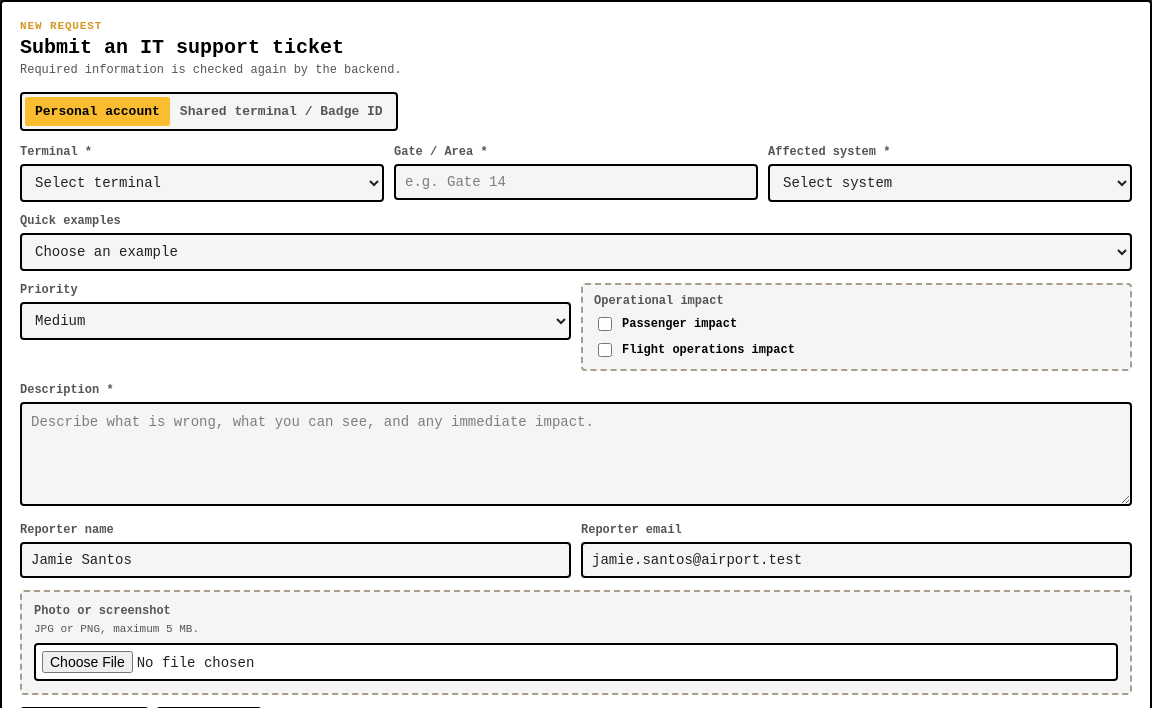
Test case: TicketForm attachment validation › clears ticket issue fields without creating a ticket
This screenshot has width=1152, height=708.
Select "Terminal 1" in the dropdown named "terminal" at (202, 183), box top-left (20, 164), bottom-right (384, 202)
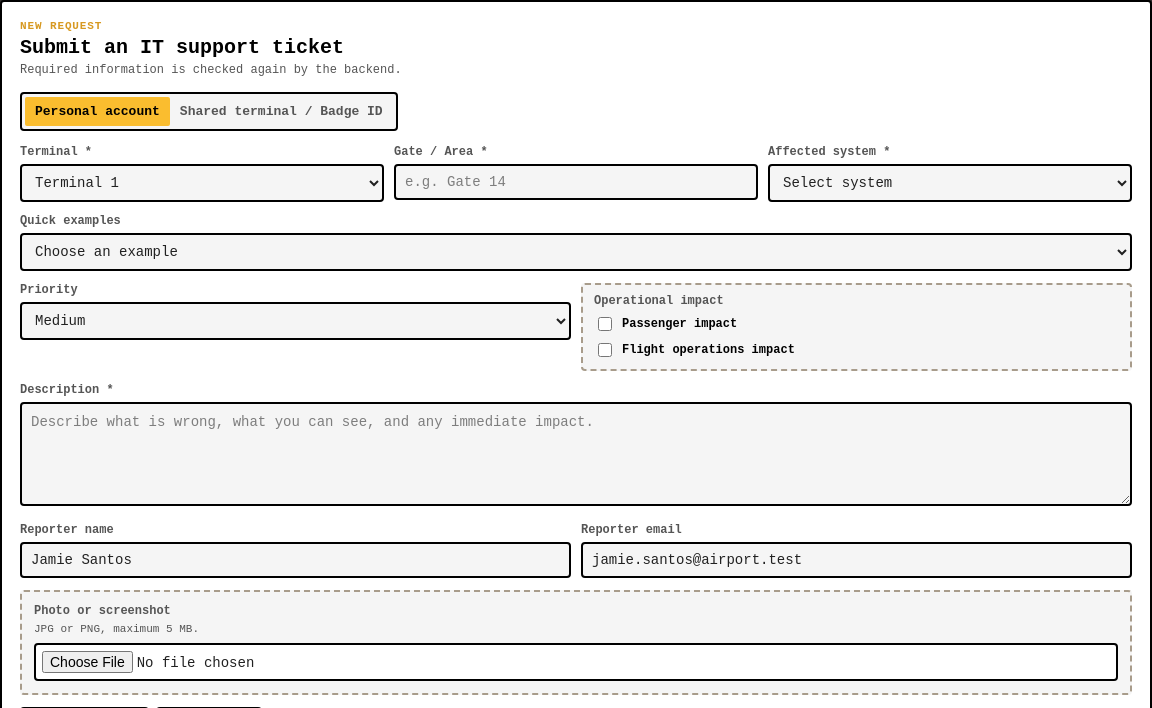
Type "Gate 14" into the field named "area" at (576, 182), box top-left (394, 164), bottom-right (758, 200)
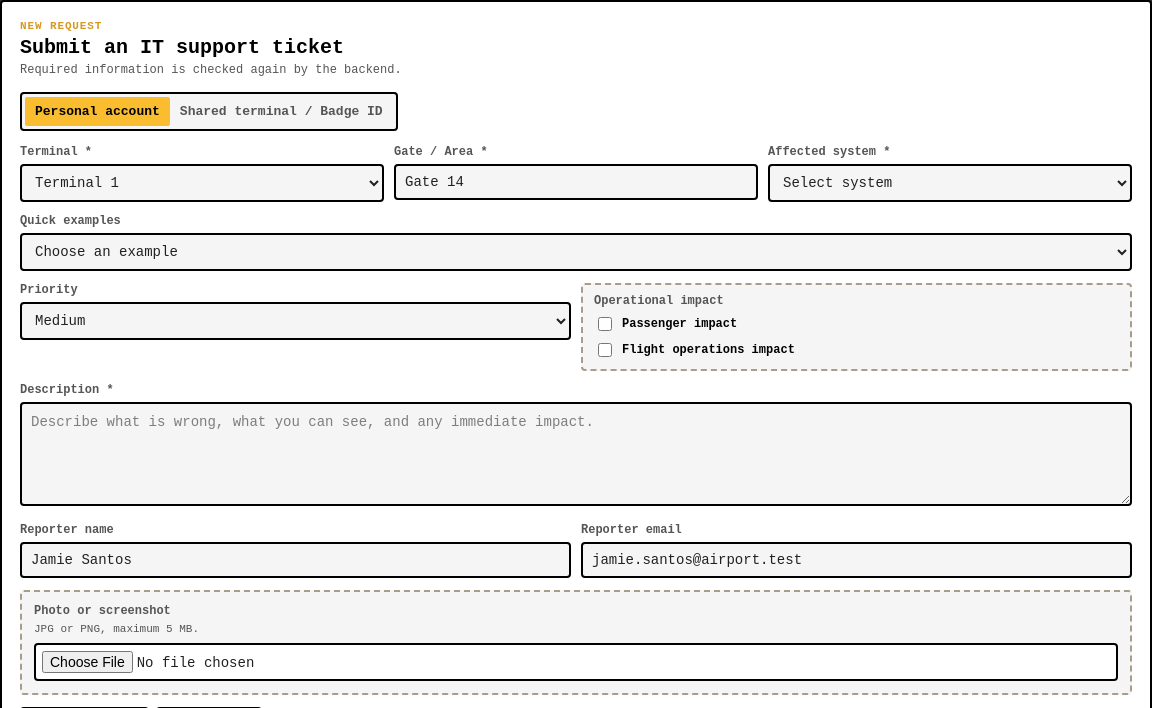
Select "Kiosk" in the dropdown named "systemType" at (950, 183), box top-left (768, 164), bottom-right (1132, 202)
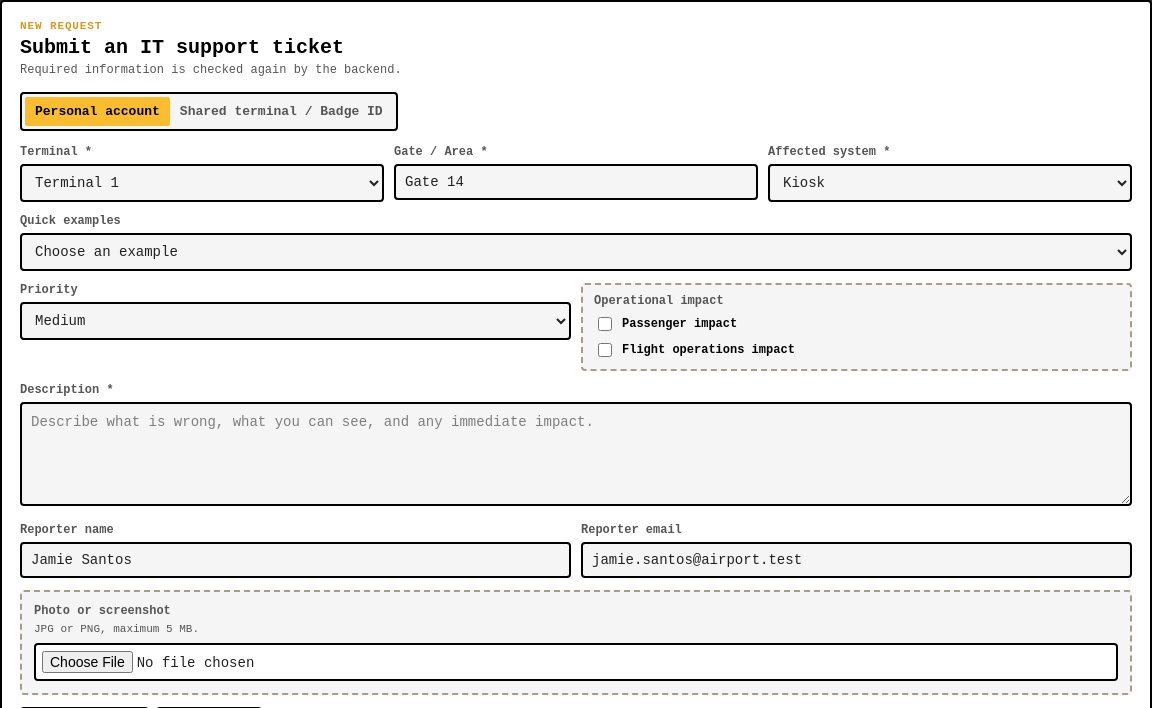
Replace the text in the text box named "description" with "Test kiosk problem" at (576, 454), box top-left (20, 402), bottom-right (1132, 506)
(page scrolled)
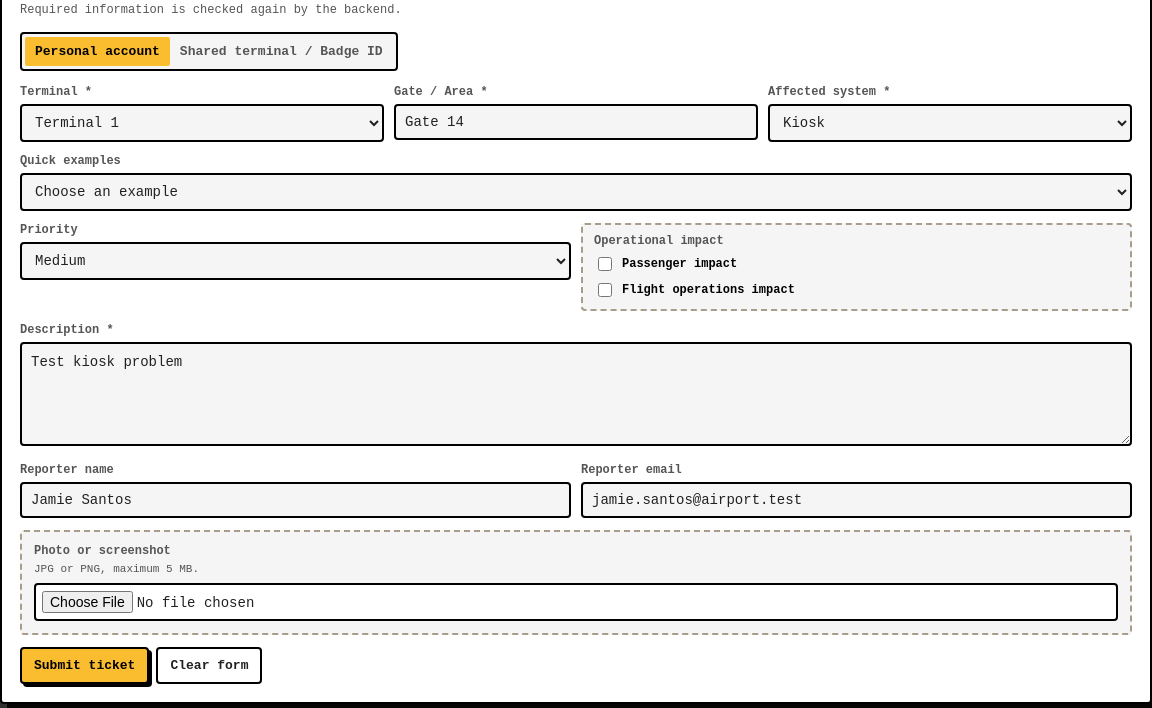
Click the button "Clear form" at (209, 666), box top-left (156, 647), bottom-right (262, 684)
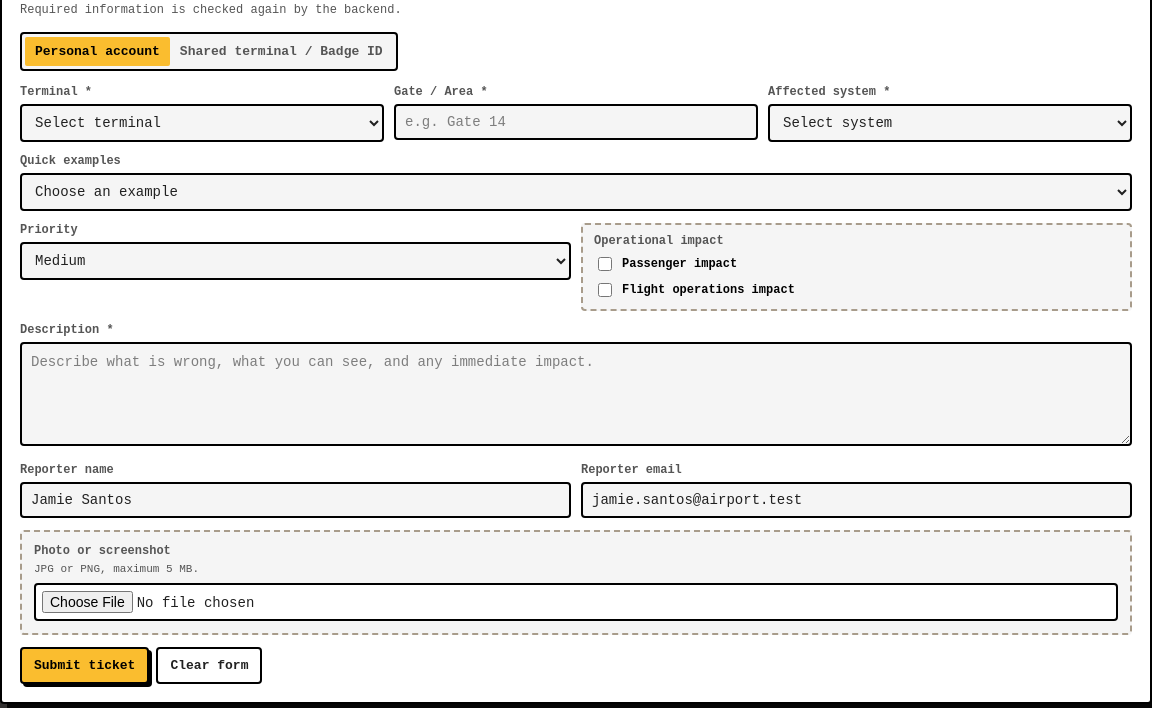
Expected: the field named "area" is empty, top-left (394, 104), bottom-right (758, 140)
Expected: the text box named "description" is empty, top-left (20, 342), bottom-right (1132, 446)
